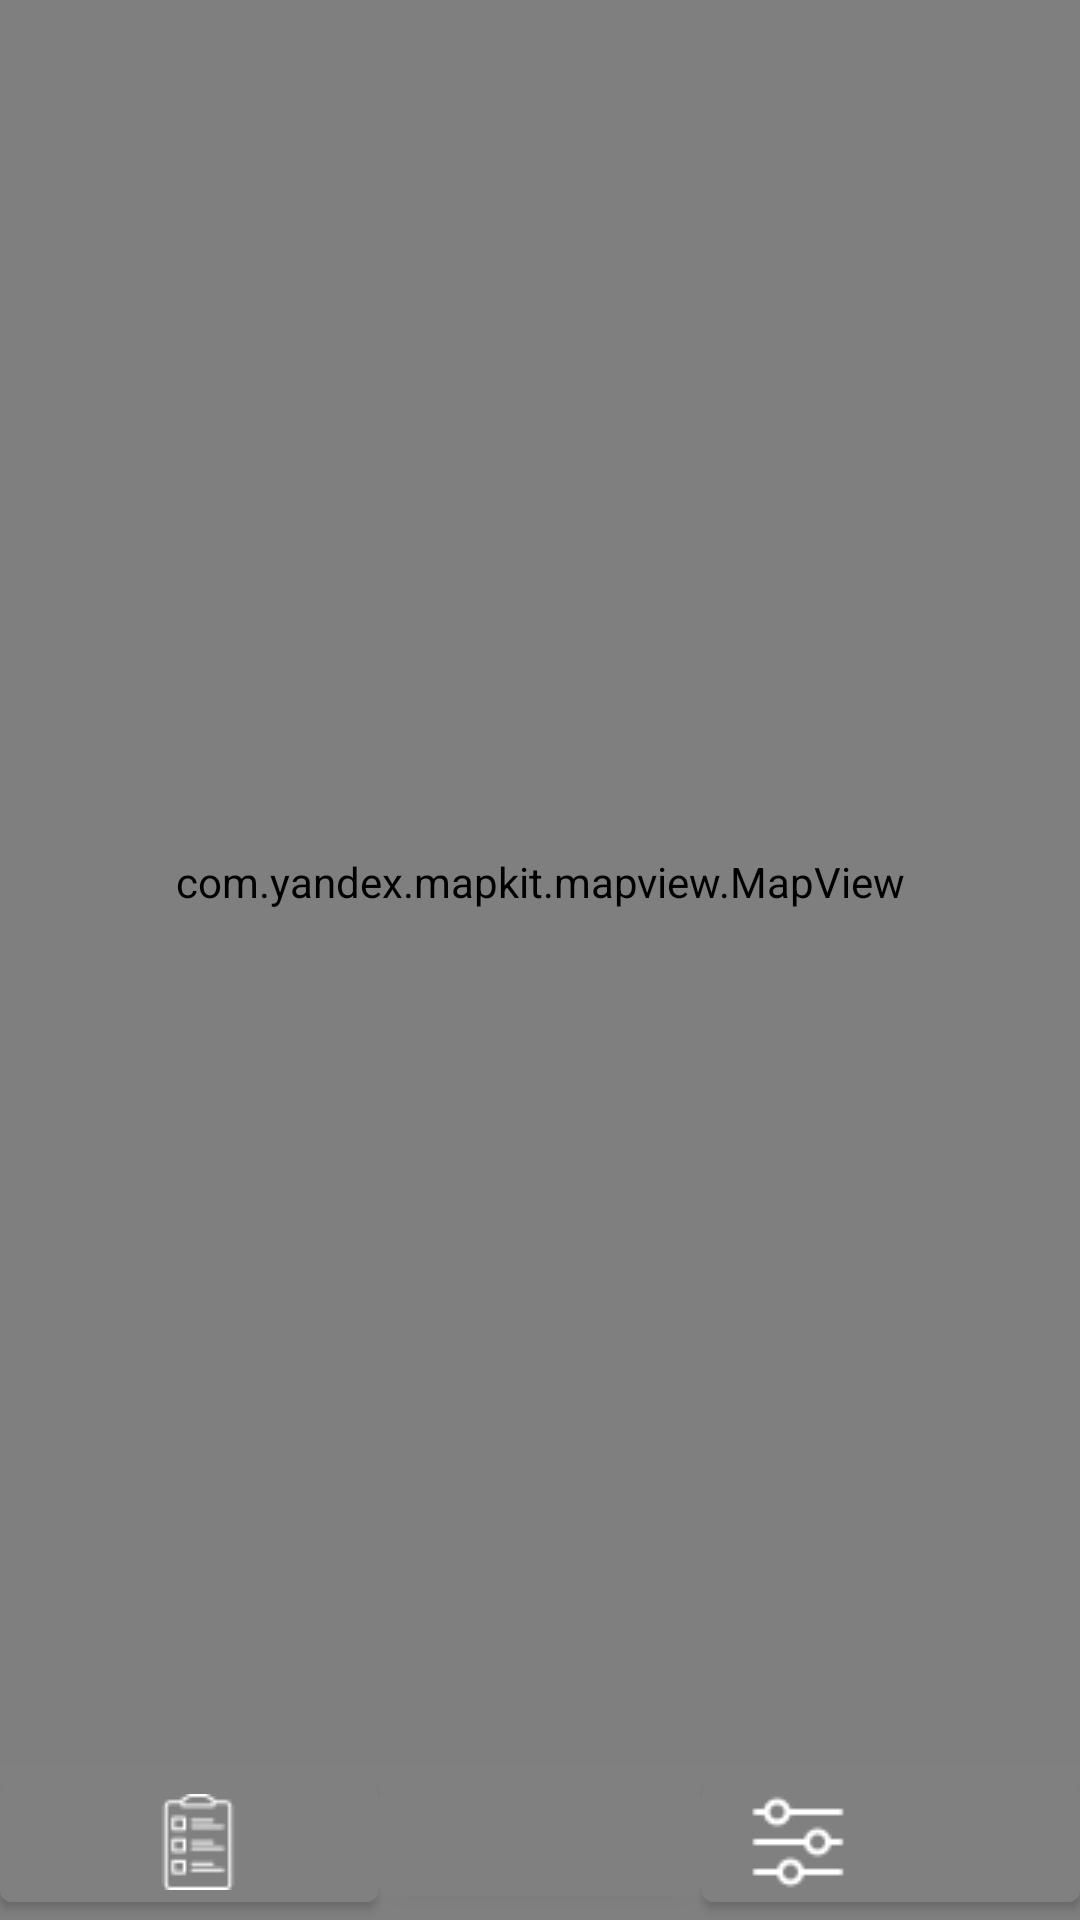

Named icons in this screenshot (1080×1920) and their bounding boxes, (x1, y1, x2, y2):
free report: (163, 1794, 233, 1890)
free settings: (752, 1797, 844, 1887)
